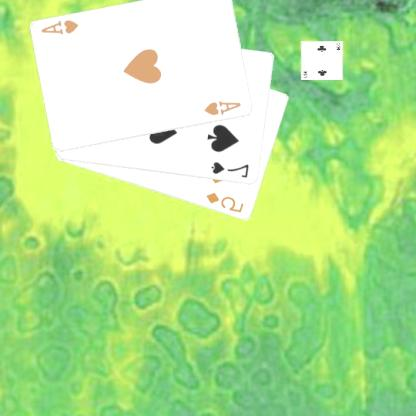5D: (205, 190, 247, 214)
7S: (210, 159, 252, 180)
AH: (203, 98, 244, 117), (41, 17, 82, 36)
